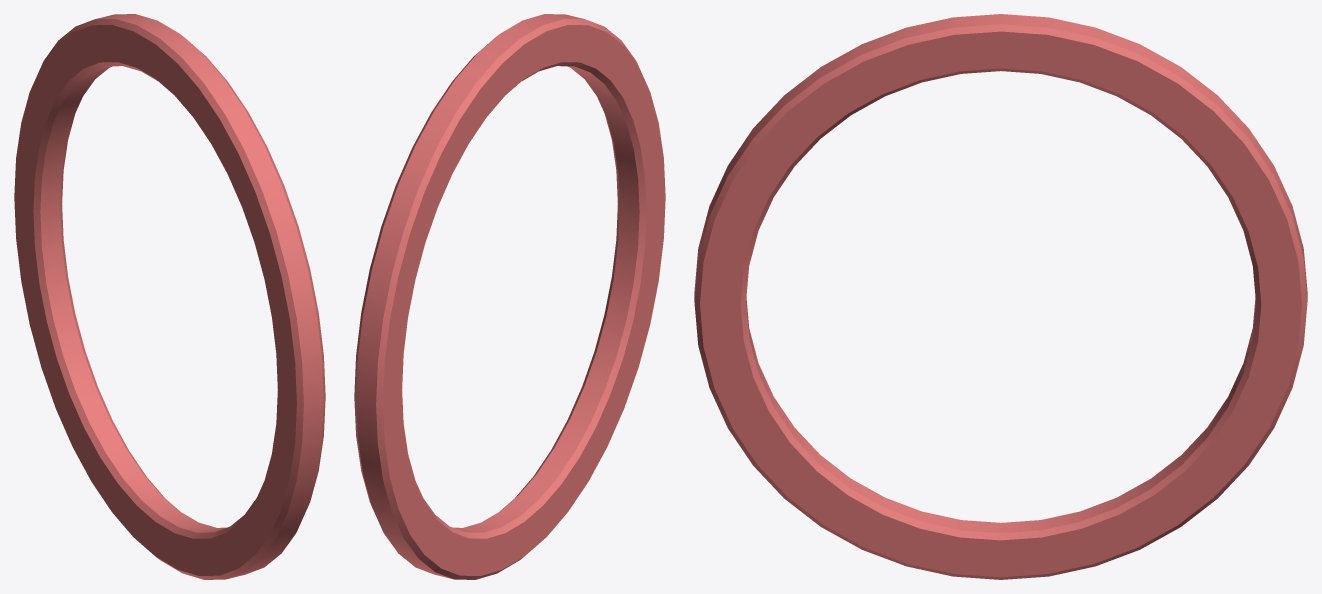
File: p_CircleRing.fbx
3 views of the same model, side by side, from view 1: azimuth 30°, elevation 25°; view 2: azimuth 150°, elevation 25°; view 3: azimuth 270°, elevation 25° (orthographic). The views are drawn at different scales.
Visible parts, largest first — view 1: p_CircleRing; view 2: p_CircleRing; view 3: p_CircleRing.
Part boxes in pixels (left/top/right/bottom): p_CircleRing: left=14, top=14, right=325, bottom=579; p_CircleRing: left=354, top=14, right=665, bottom=579; p_CircleRing: left=694, top=14, right=1307, bottom=579.
Size of the model in its own units: 0.1012 by 1.76 by 1.76.
